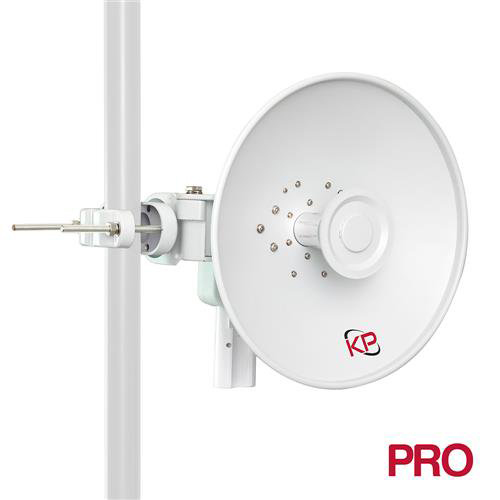ba: (190, 57, 471, 399)
